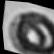correct: (1, 0, 54, 54)
